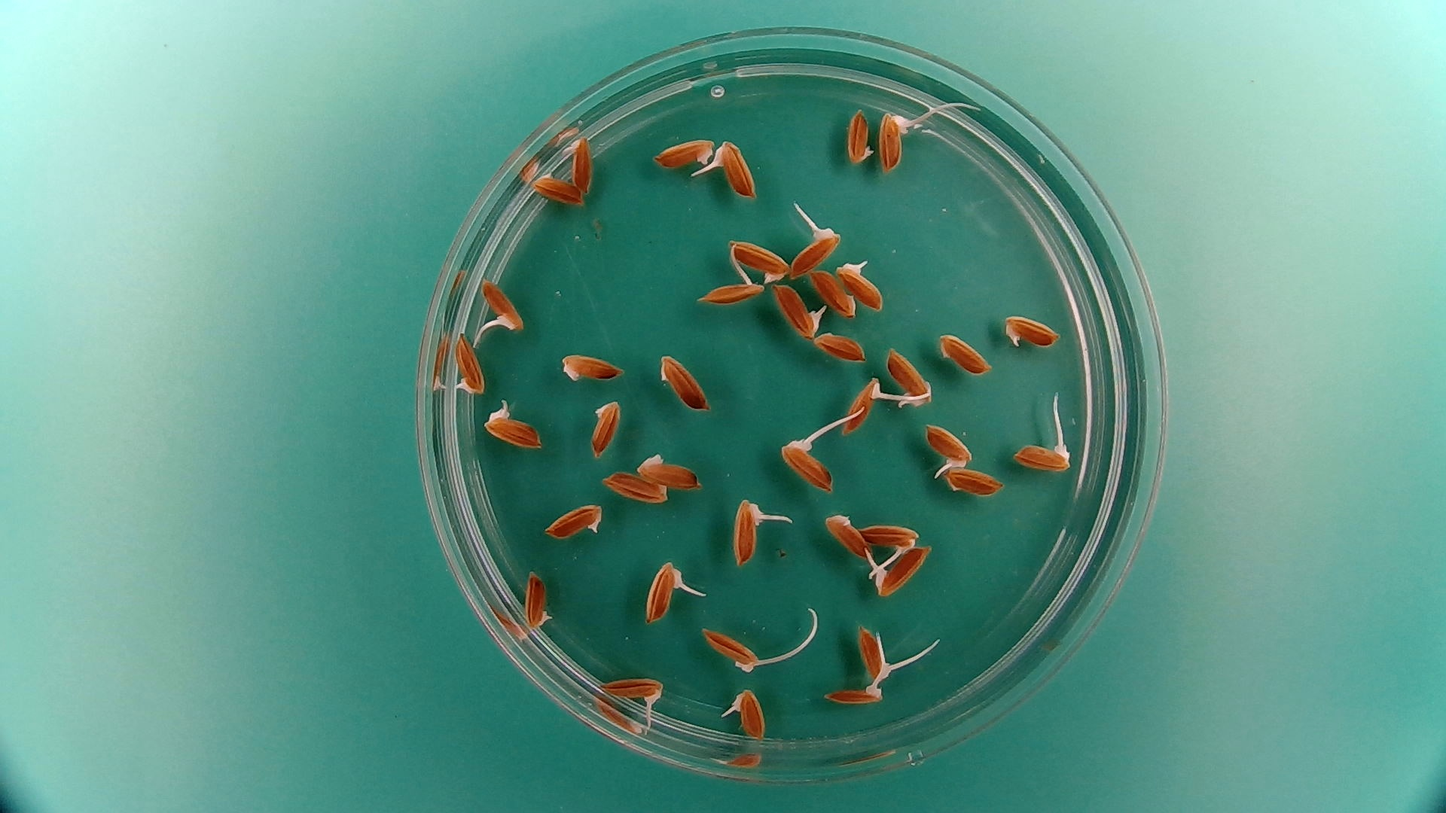no: (657, 350, 713, 413), (726, 236, 792, 282), (633, 449, 703, 489), (935, 330, 994, 377), (810, 265, 860, 320), (541, 501, 606, 542), (822, 510, 874, 560), (557, 349, 628, 385), (449, 330, 487, 397), (585, 397, 623, 461), (560, 132, 596, 199), (649, 135, 715, 171), (602, 470, 669, 505), (520, 567, 554, 634), (528, 169, 584, 208), (812, 329, 871, 365), (942, 466, 1004, 498), (844, 106, 875, 167)
yes: (787, 217, 843, 279), (871, 544, 934, 598), (767, 281, 825, 339), (698, 625, 763, 673), (477, 273, 527, 334), (780, 440, 835, 495), (837, 255, 889, 313), (886, 348, 934, 406), (482, 406, 542, 452), (598, 671, 667, 708), (642, 561, 681, 626), (921, 421, 975, 467), (840, 376, 881, 436), (714, 141, 756, 198), (858, 519, 927, 552), (691, 276, 766, 306), (726, 686, 767, 740), (730, 495, 762, 563), (1011, 438, 1071, 474), (877, 110, 910, 173), (1005, 312, 1060, 349), (820, 678, 887, 708), (856, 626, 890, 684)
